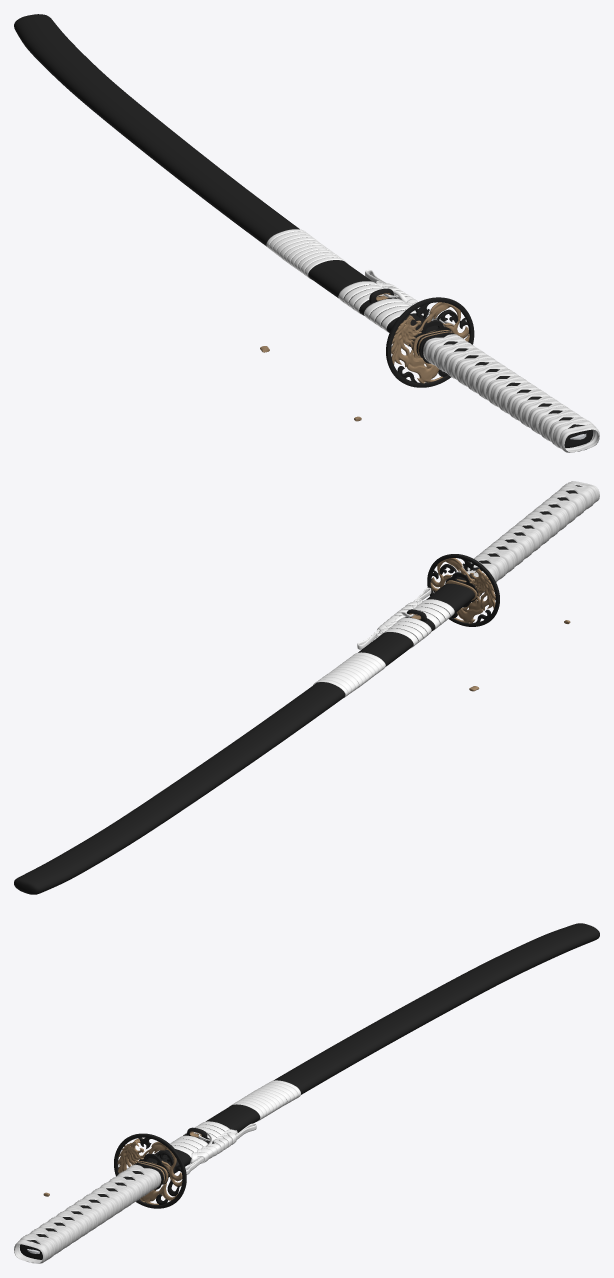
File: katana_sheathed.glb
3 views of the same model, one above another, from view 1: azimuth 30°, elevation 25°; view 2: azimuth 150°, elevation 25°; view 3: azimuth 330°, elevation 25° (orthographic). The views are drawn at different scales.
Parts seen in each view (by area): view 1: Cube.006, Circle.008, katana_sheathed, Plane.004, Plane.001, Circle.005, Plane.005; view 2: Cube.006, Circle.008, katana_sheathed, Plane.004, Plane.001; view 3: Cube.006, Circle.008, katana_sheathed, Plane.004, Plane.001, Circle.005, Plane.005.
Part boxes in pixels (x1=…): Cube.006: x1=14, y1=14, x2=438, y2=346; Circle.008: x1=423, y1=334, x2=599, y2=452; katana_sheathed: x1=266, y1=229, x2=453, y2=332; Plane.004: x1=391, y1=302, x2=469, y2=383; Plane.001: x1=386, y1=297, x2=474, y2=387; Circle.005: x1=439, y1=336, x2=592, y2=447; Plane.005: x1=397, y1=303, x2=468, y2=383; Cube.006: x1=14, y1=583, x2=474, y2=894; Circle.008: x1=457, y1=481, x2=599, y2=593; katana_sheathed: x1=313, y1=587, x2=454, y2=697; Plane.004: x1=430, y1=558, x2=495, y2=623; Plane.001: x1=427, y1=554, x2=499, y2=626; Cube.006: x1=147, y1=923, x2=599, y2=1176; Circle.008: x1=14, y1=1164, x2=161, y2=1263; katana_sheathed: x1=170, y1=1080, x2=300, y2=1174; Plane.004: x1=117, y1=1140, x2=182, y2=1204; Plane.001: x1=114, y1=1133, x2=186, y2=1208; Circle.005: x1=20, y1=1167, x2=147, y2=1259; Plane.005: x1=137, y1=1137, x2=181, y2=1204.
Size of the model in its own units: 0.1716 by 0.0779 by 1.
Materials: 7 (1 with a texture image).
